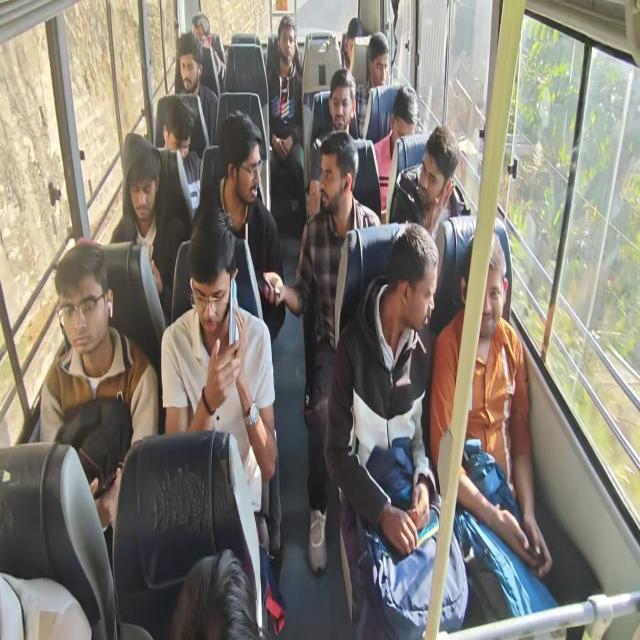person: (55, 247, 114, 374), (186, 218, 230, 336), (386, 241, 438, 333), (314, 139, 358, 231), (463, 239, 506, 332), (215, 118, 262, 201), (124, 132, 162, 233), (155, 96, 194, 164), (419, 132, 448, 212), (390, 85, 419, 154), (177, 34, 205, 90), (370, 38, 395, 97), (188, 6, 219, 50), (342, 19, 367, 68), (280, 25, 300, 74), (330, 77, 350, 124)
